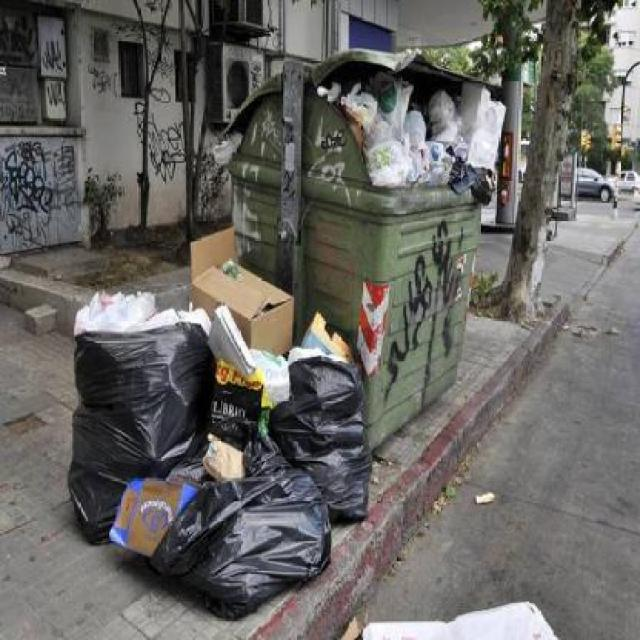garbage: (70, 288, 376, 604), (308, 57, 512, 206)
